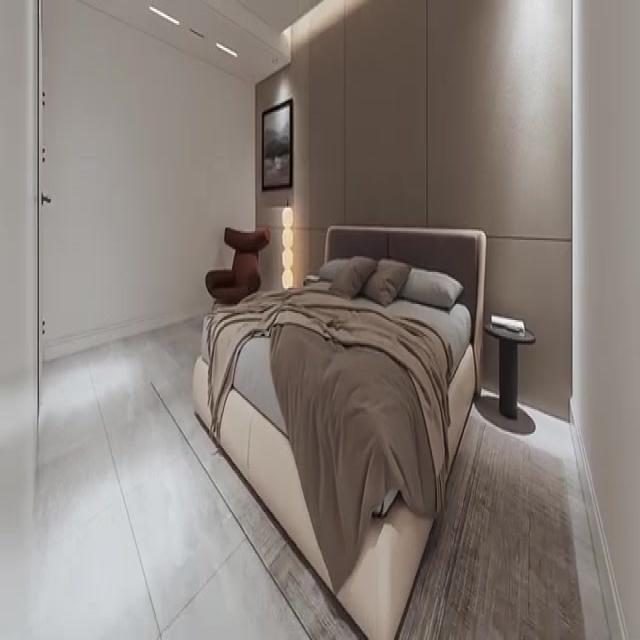obstacle: (192, 224, 486, 638), (205, 223, 270, 310), (483, 318, 536, 420)
